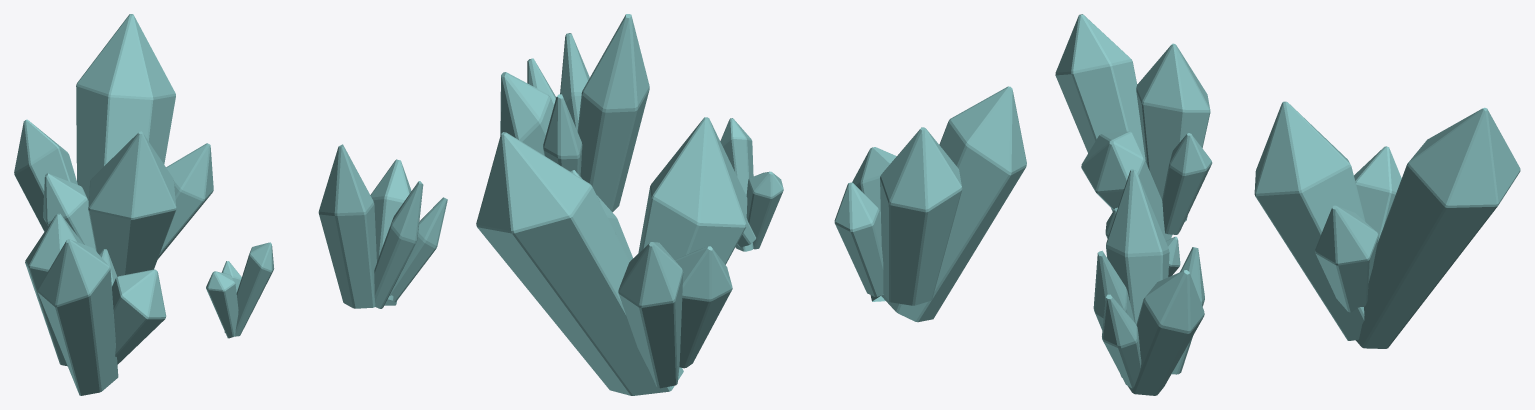
The model's file is crystals.fbx.
3 views of the same model, side by side, from view 1: azimuth 30°, elevation 25°; view 2: azimuth 150°, elevation 25°; view 3: azimuth 270°, elevation 25° (orthographic). The views are drawn at different scales.
Visible parts, largest first — view 1: crystal_2_bevel, crystal_1_bevel, crystal_6_bevel, crystal_7_bevel; view 2: crystal_2_bevel, crystal_1_bevel, crystal_6_bevel, crystal_7_bevel; view 3: crystal_2_bevel, crystal_1_bevel, crystal_6_bevel, crystal_7_bevel.
Boxes of the visible parts, x1,y1,x2,y2 form: crystal_2_bevel: (14,14,213,276); crystal_1_bevel: (25,213,166,395); crystal_6_bevel: (318,144,447,308); crystal_7_bevel: (206,242,274,338); crystal_2_bevel: (476,117,747,395); crystal_1_bevel: (834,86,1026,322); crystal_6_bevel: (500,14,649,212); crystal_7_bevel: (720,118,783,251); crystal_2_bevel: (1254,101,1520,348); crystal_1_bevel: (1055,14,1212,240); crystal_6_bevel: (1093,169,1204,395); crystal_7_bevel: (1105,207,1180,276).
Bounding box in the file's own units: 1472 × 817 × 1301.
